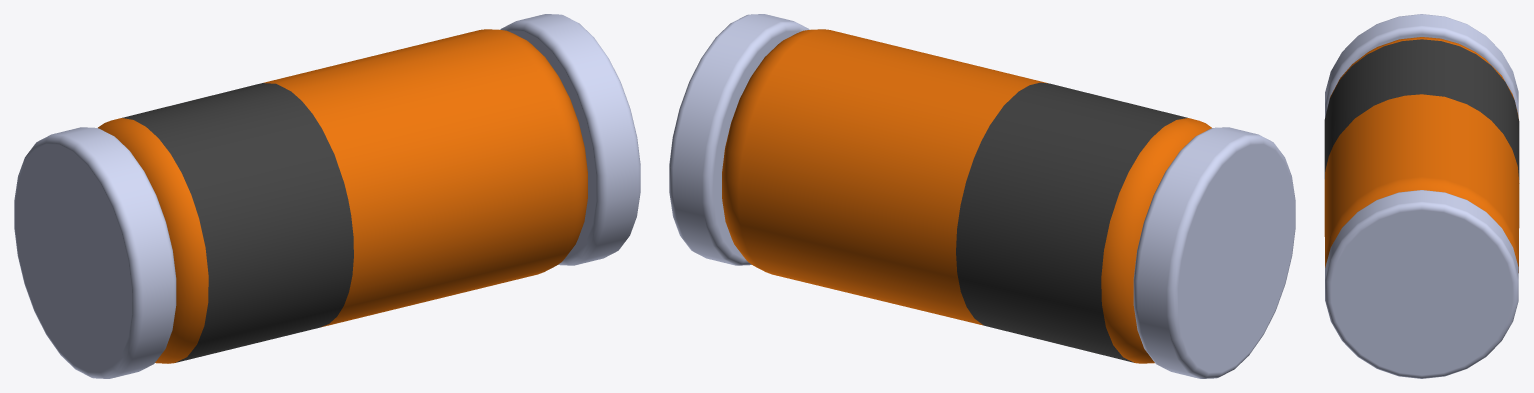
The picture shows the model from 3 angles, left to right: view 1: azimuth 30°, elevation 25°; view 2: azimuth 150°, elevation 25°; view 3: azimuth 270°, elevation 25°; orthographic projection. The views are drawn at different scales.
Visible parts, largest first — view 1: 15AA618C-3AFB-4717-85CA-4DA1E66626E0; view 2: 15AA618C-3AFB-4717-85CA-4DA1E66626E0; view 3: 15AA618C-3AFB-4717-85CA-4DA1E66626E0.
Boxes of the visible parts, x1,y1,x2,y2 form: 15AA618C-3AFB-4717-85CA-4DA1E66626E0: [14, 14, 640, 378]; 15AA618C-3AFB-4717-85CA-4DA1E66626E0: [669, 14, 1295, 378]; 15AA618C-3AFB-4717-85CA-4DA1E66626E0: [1324, 14, 1519, 378].
Bounding box in the file's own units: 0.0035 × 0.0015 × 0.0015.
